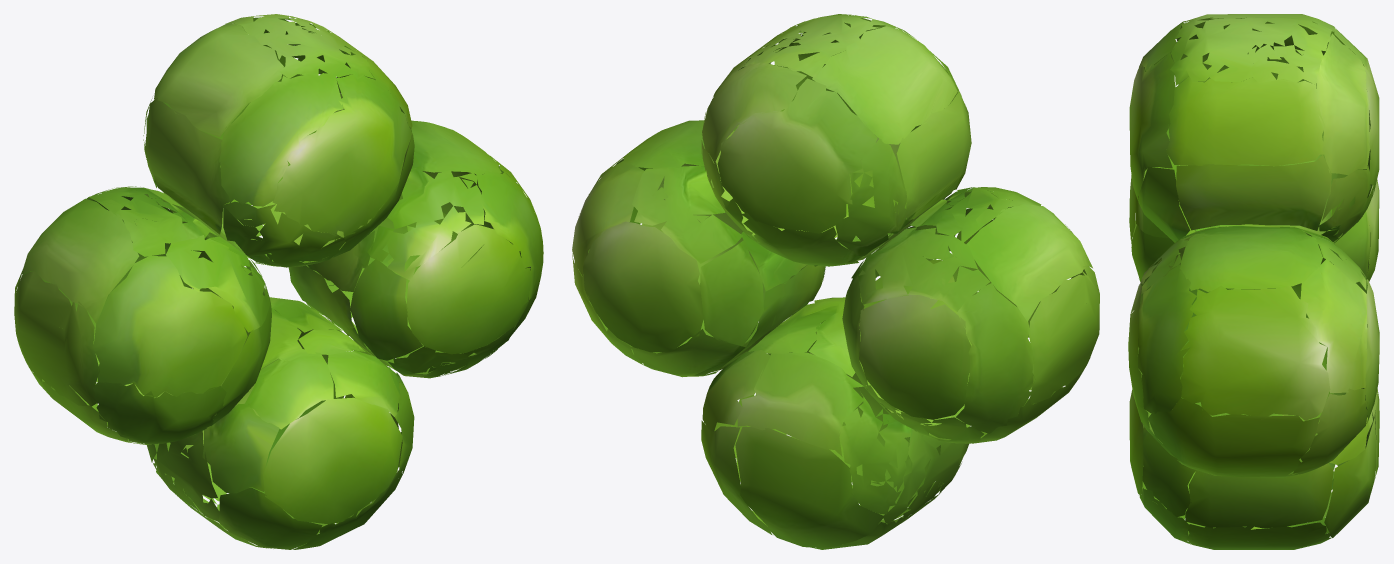
Rendered from peas.glb.
3 renders of one model, left to right at view 1: azimuth 30°, elevation 25°; view 2: azimuth 150°, elevation 25°; view 3: azimuth 270°, elevation 25°, orthographic. The views are drawn at different scales.
Bounding box in the file's own units: 0.1201 × 0.1198 × 0.0534.
1 material, 1 textured.
